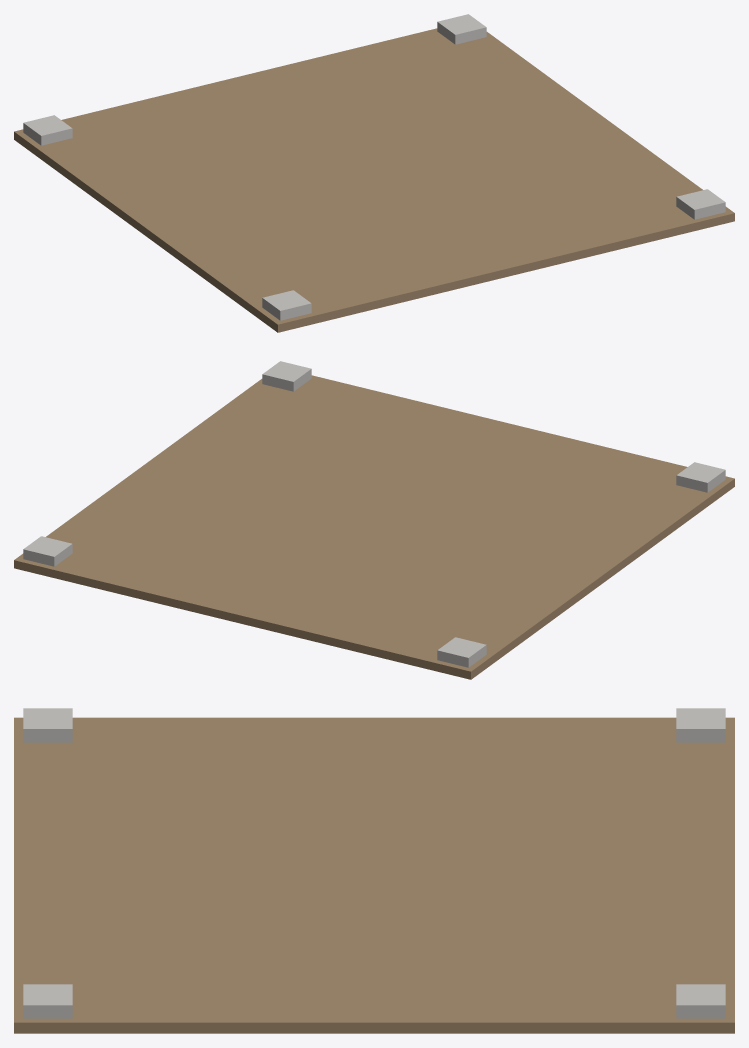
Rendered from building_warehouse_foundation.glb.
3 renders of one model, top to bottom at view 1: azimuth 30°, elevation 25°; view 2: azimuth 150°, elevation 25°; view 3: azimuth 270°, elevation 25°, orthographic. The views are drawn at different scales.
Visible parts, largest first — view 1: building_warehouse_foundation; view 2: building_warehouse_foundation; view 3: building_warehouse_foundation.
Part boxes in pixels (<box>): building_warehouse_foundation: <box>14,14,734,332</box>; building_warehouse_foundation: <box>14,361,734,679</box>; building_warehouse_foundation: <box>14,708,734,1033</box>.
Size of the model in its own units: 5.85 by 0.22 by 5.85.
